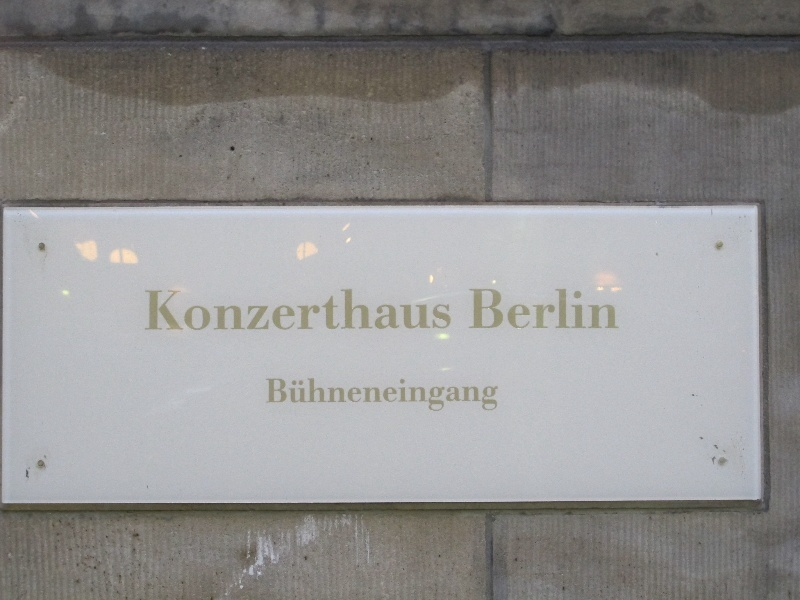text: (481, 288, 496, 331), (497, 288, 512, 331), (513, 288, 528, 331), (529, 288, 544, 331), (545, 288, 560, 331), (561, 288, 576, 331), (577, 288, 592, 331), (593, 288, 608, 331), (145, 290, 160, 332), (161, 290, 176, 332), (177, 290, 192, 332), (193, 290, 208, 332), (209, 290, 224, 332), (225, 290, 240, 332), (241, 290, 256, 332), (257, 290, 272, 332), (273, 290, 288, 332), (289, 290, 304, 332), (305, 290, 320, 332), (321, 290, 336, 332), (337, 290, 352, 332), (353, 290, 368, 332), (369, 290, 384, 332), (385, 290, 400, 332), (401, 290, 416, 332), (417, 290, 432, 332), (433, 290, 448, 332), (273, 378, 288, 416), (289, 378, 304, 416), (305, 378, 320, 416), (321, 378, 336, 416), (337, 378, 352, 416), (353, 378, 368, 416), (369, 378, 384, 416), (385, 378, 400, 416), (401, 378, 416, 416), (417, 378, 432, 416), (433, 378, 448, 416), (449, 378, 464, 416), (465, 378, 480, 416), (481, 378, 496, 416), (470, 288, 480, 331), (609, 288, 618, 331), (266, 378, 272, 416), (449, 290, 453, 332), (497, 378, 499, 416)
